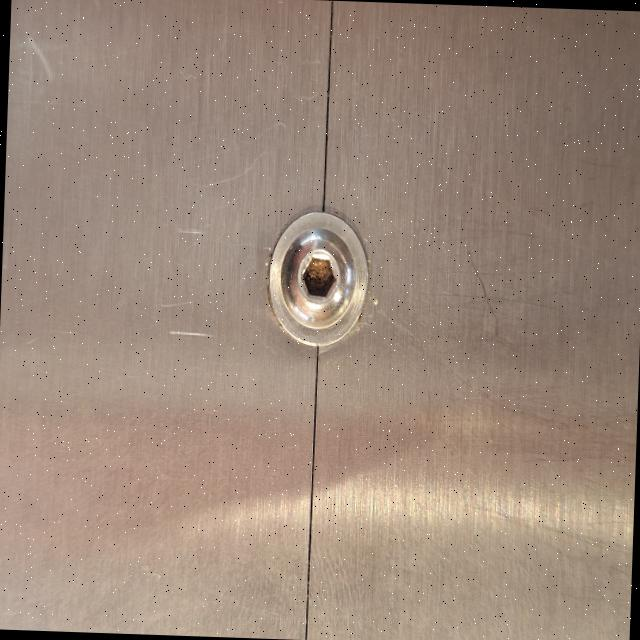Hex Socket Allen: (248, 200, 382, 358)
